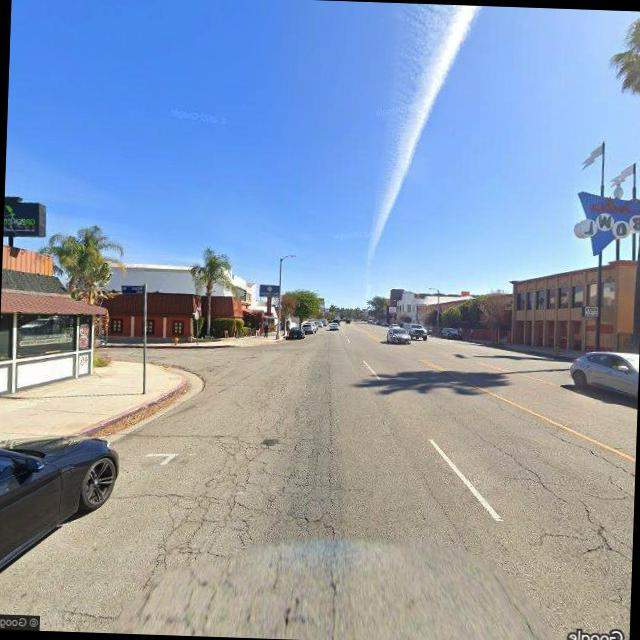crack: (120, 408, 350, 639), (466, 422, 636, 576)
pothole: (542, 425, 636, 480)
